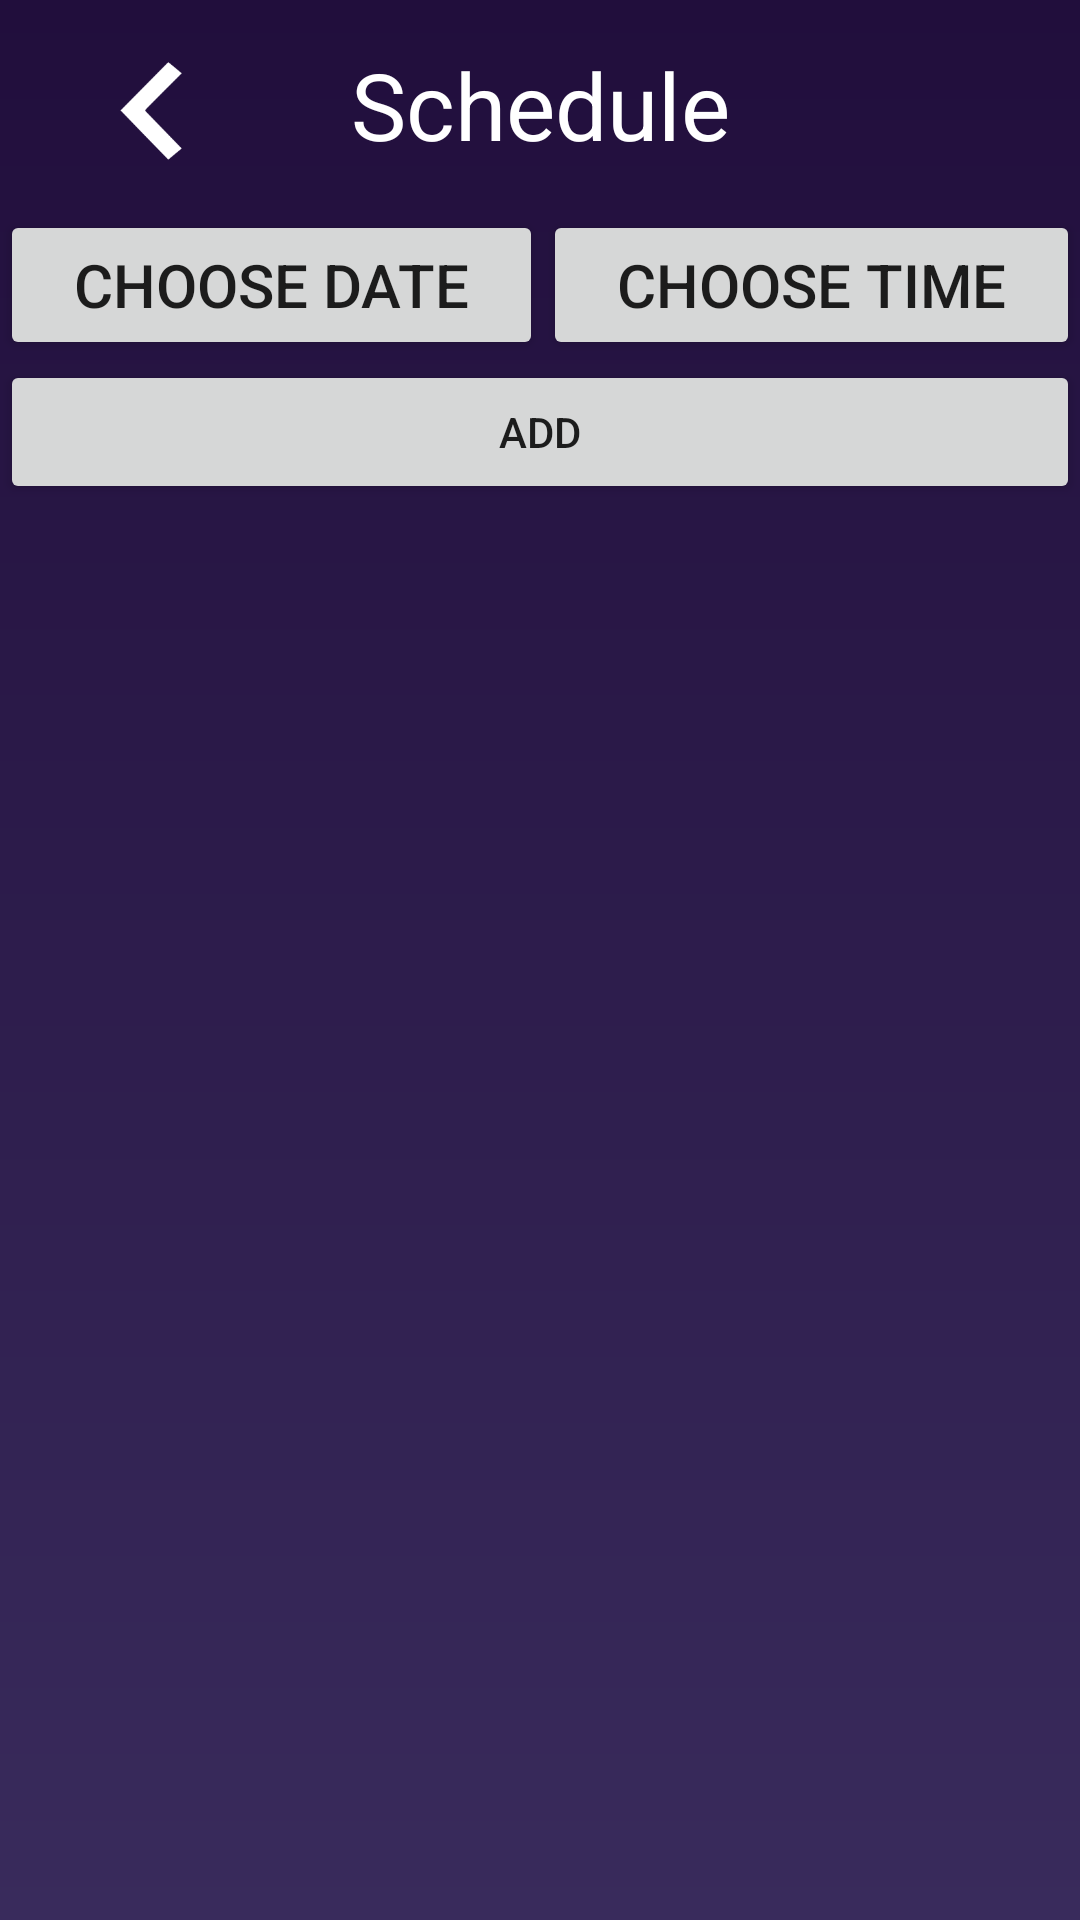

Icons on this 1080px x 1920px Android screen, each with the point to tap as (x,y):
back: (151,111)
